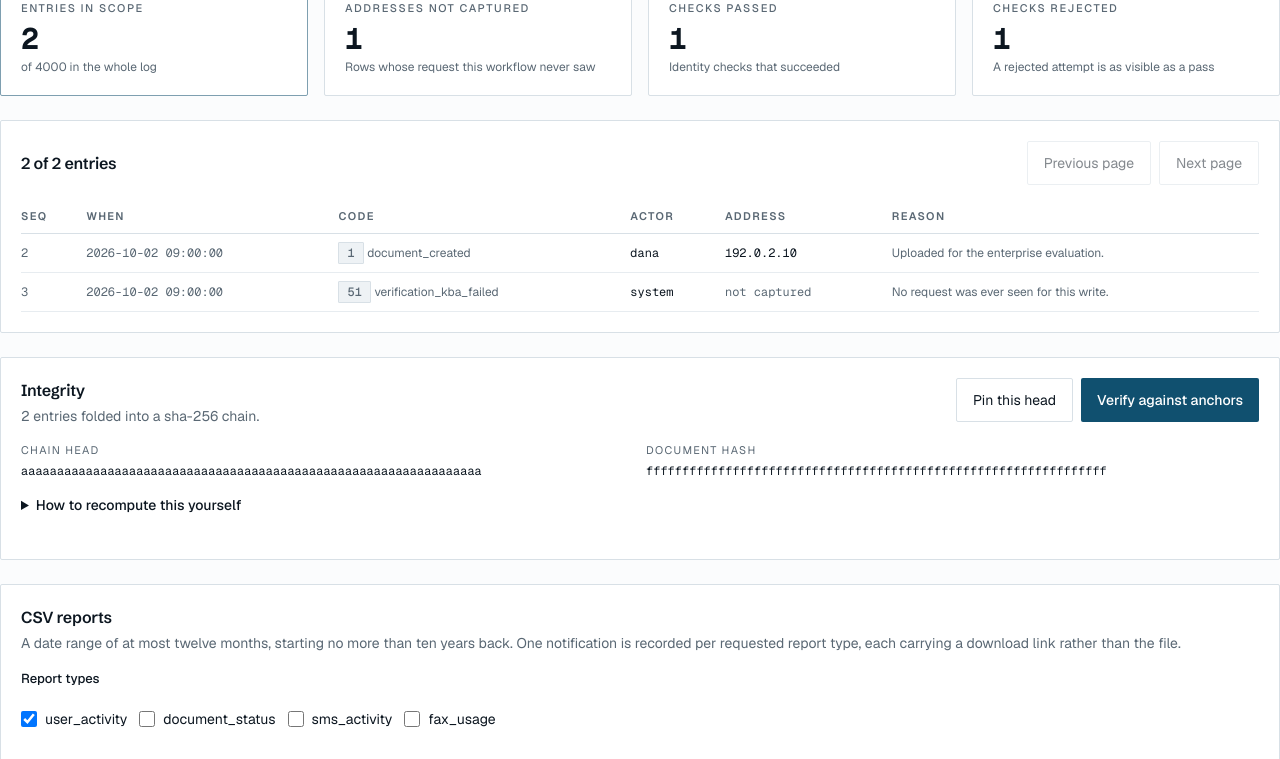
the integrity panel › reports that verifying against zero anchors compared nothing
(page scrolled)
expect the text "Uploaded for the enterprise evaluation." is shown: met, box [892,234,1259,272]
Click the button "Verify against anchors": (1170, 400) [1081,378,1259,422]
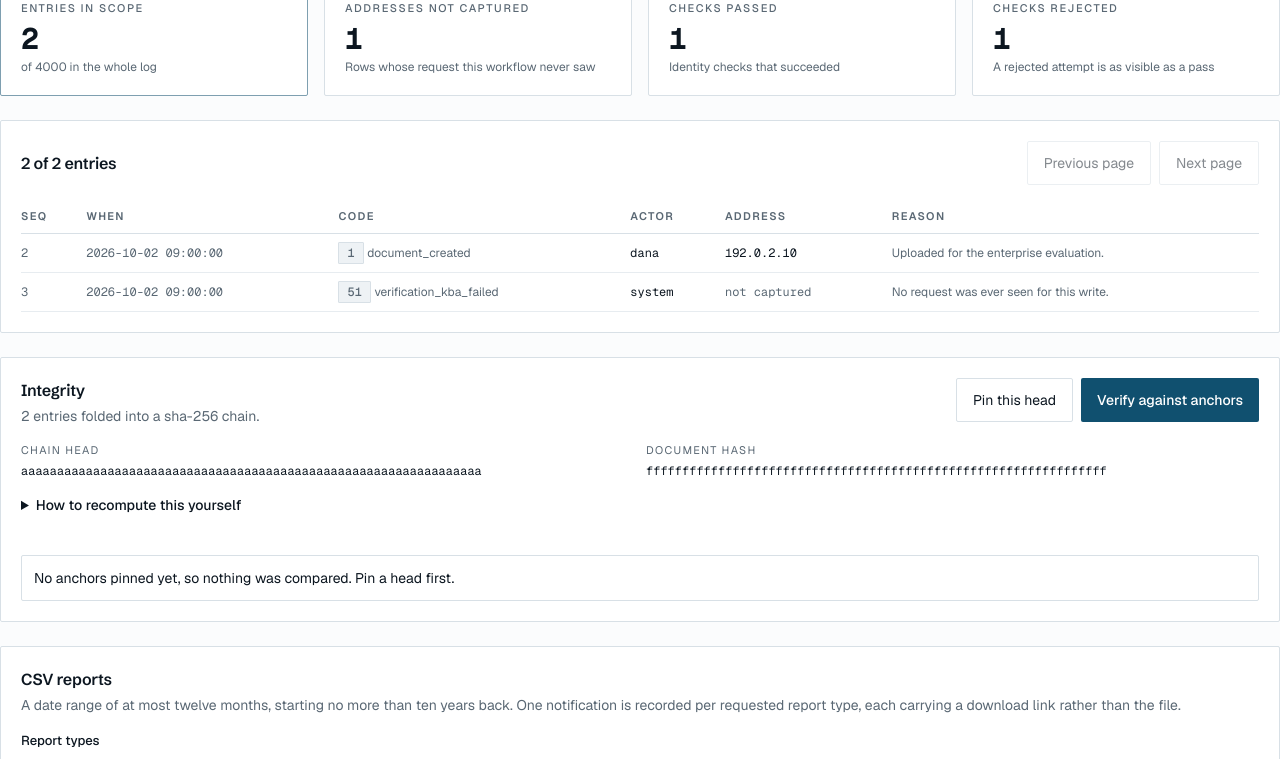
expect the text "No anchors pinned yet" is shown: met, box [34,569,454,587]
